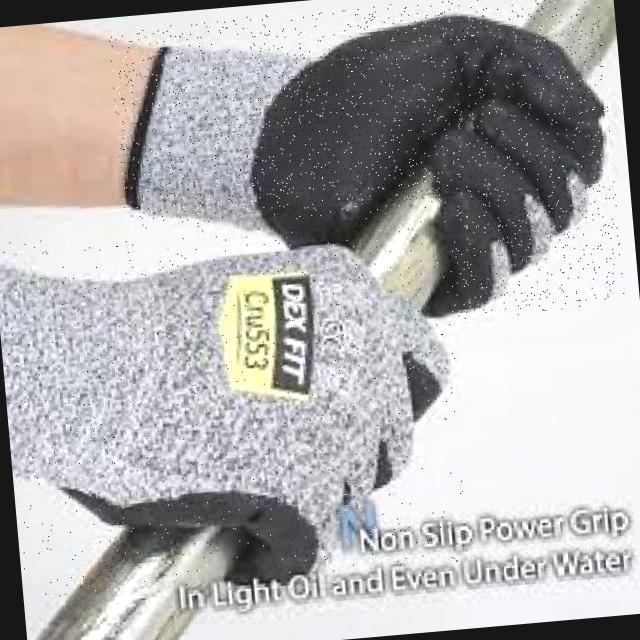gloves: (0, 222, 469, 594), (110, 0, 623, 339)
